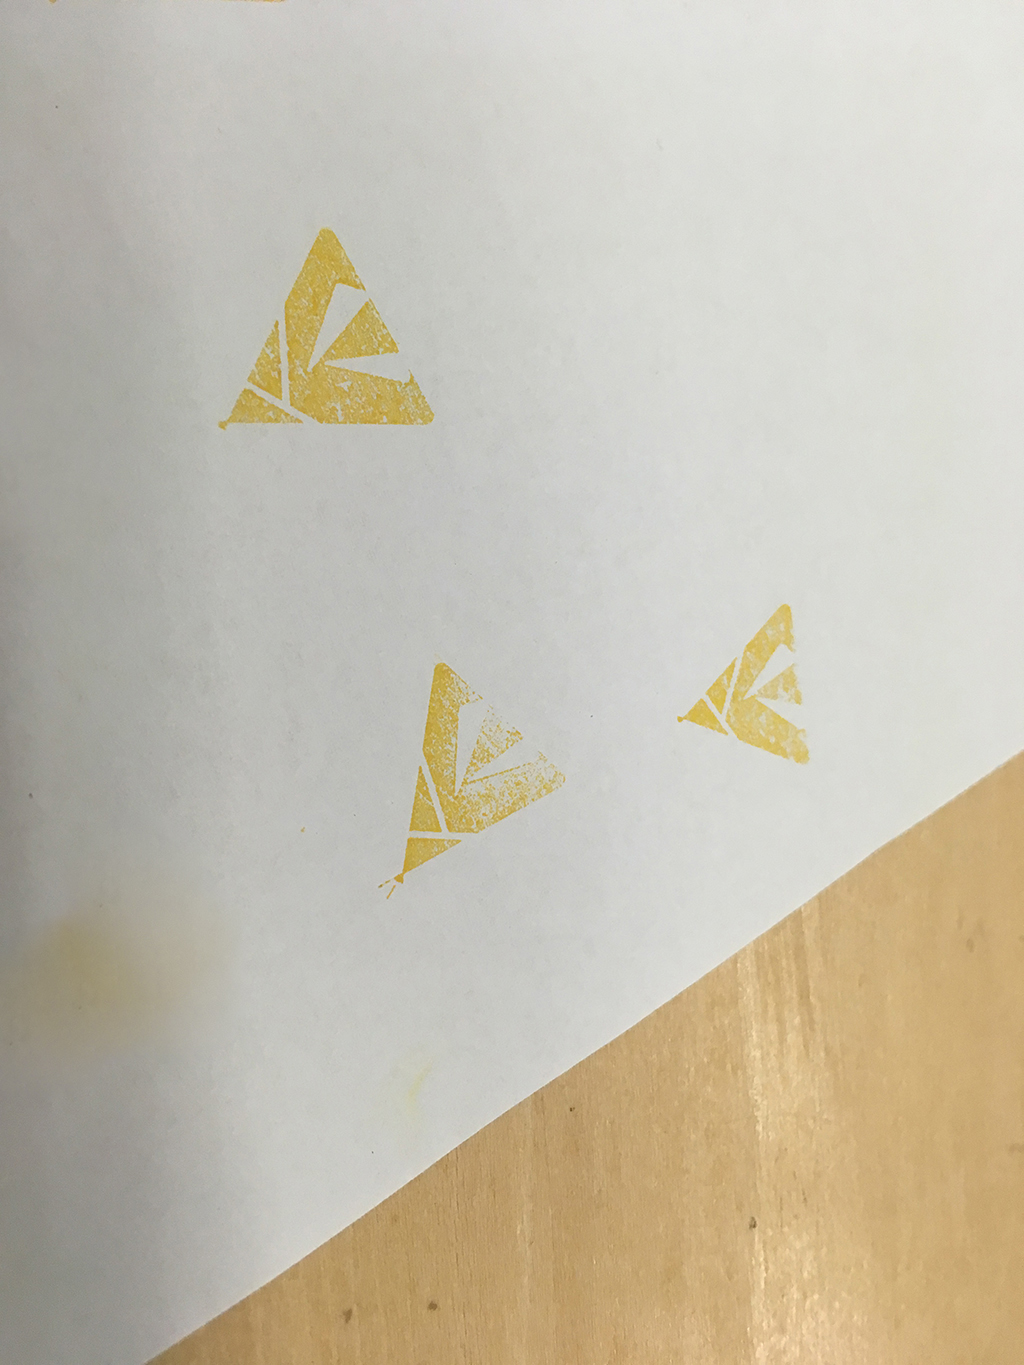tent: (374, 655, 585, 912), (209, 221, 443, 444), (664, 594, 817, 774)
